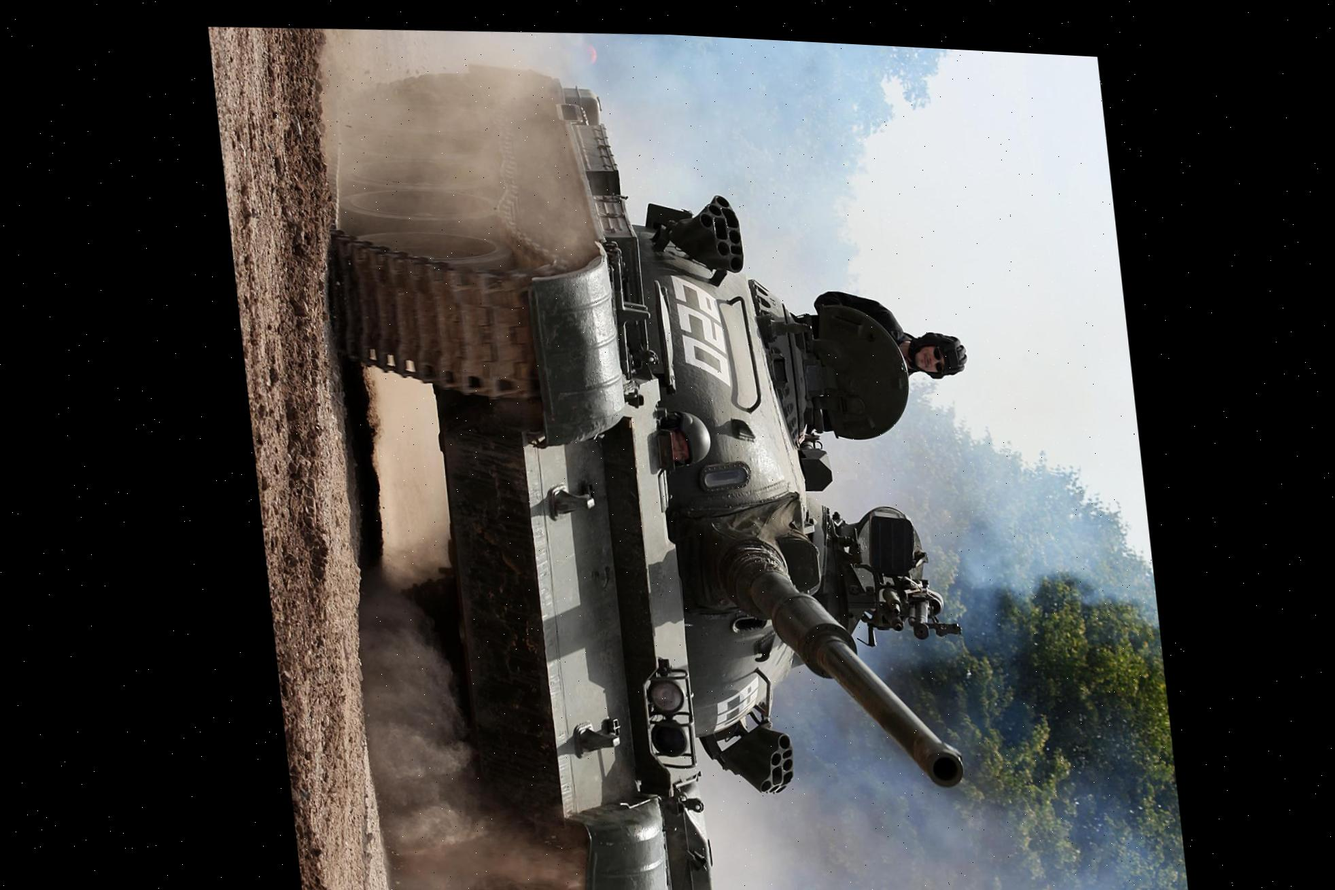tank: (281, 15, 899, 890)
